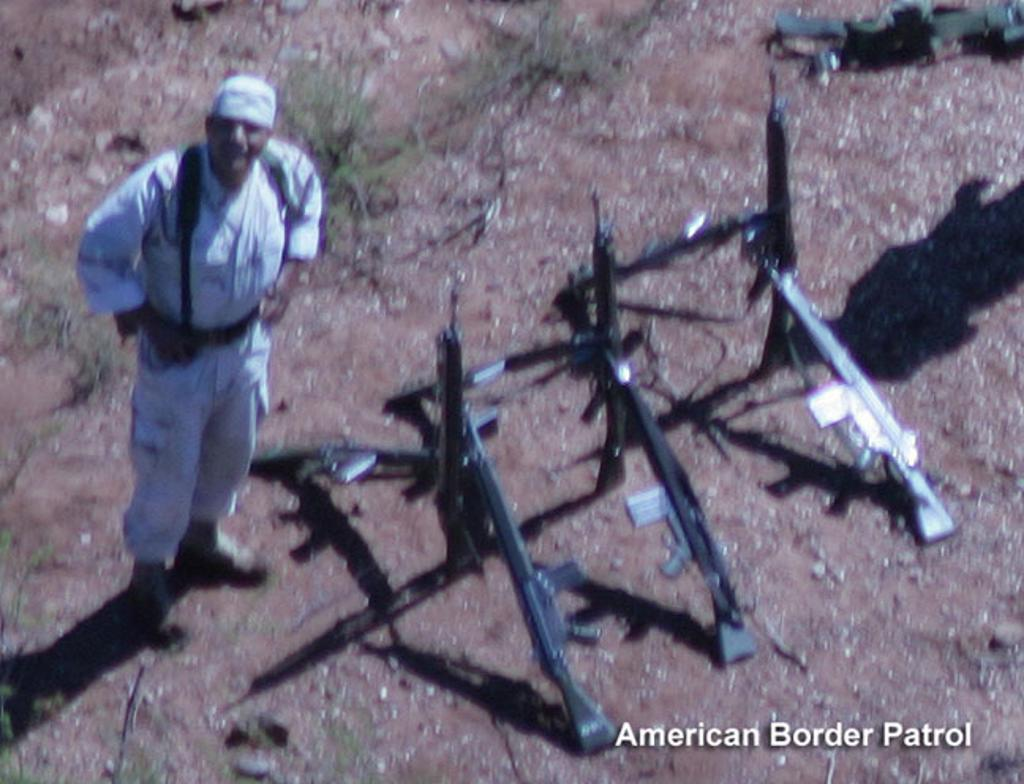face: (212, 110, 268, 180)
